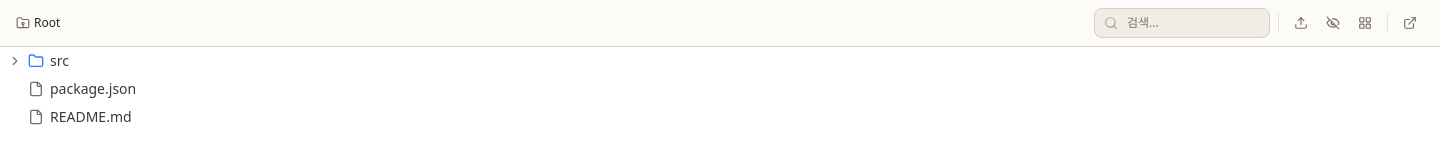
FileExplorerTab › updates breadcrumb when folder is clicked in grid view
The width and height of the screenshot is (1440, 160).
Check: the text "src" is shown, box [50,51,69,71]
// Switch to grid
Click the button named "그리드 뷰": (1365, 23) [1351,9,1379,37]
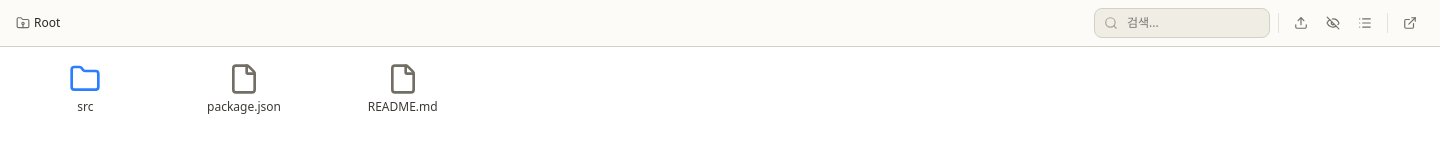
Check: the text "src" is shown, box [77,98,93,115]
Click the button "src": (85, 89) [69,63,101,115]
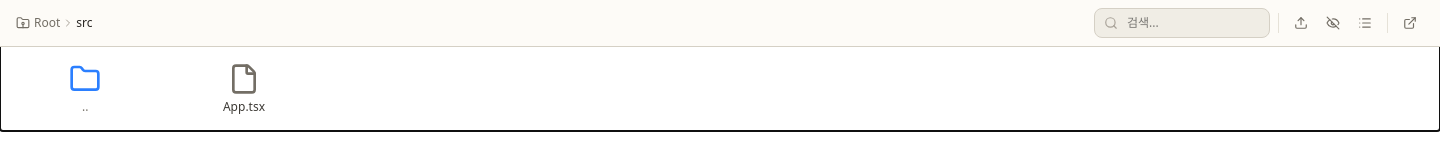
Check: the text "App.tsx" is shown, box [223,98,265,115]
Check: the text "src" is shown, box [76,15,92,31]
